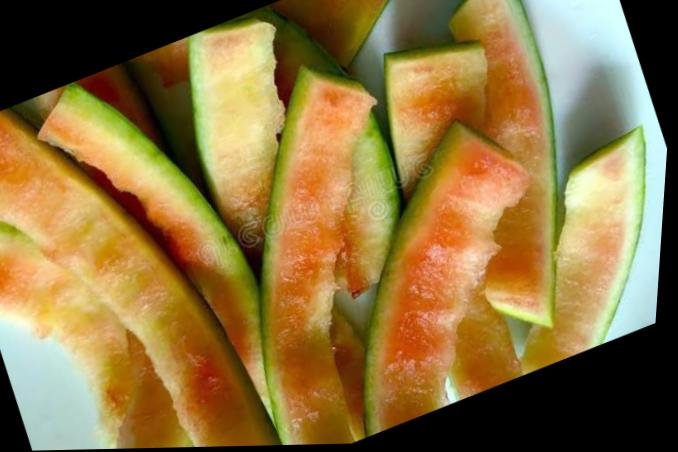organic: (131, 11, 446, 442), (351, 0, 666, 339), (0, 85, 277, 448), (262, 90, 528, 442), (0, 179, 192, 448), (487, 127, 645, 370)
